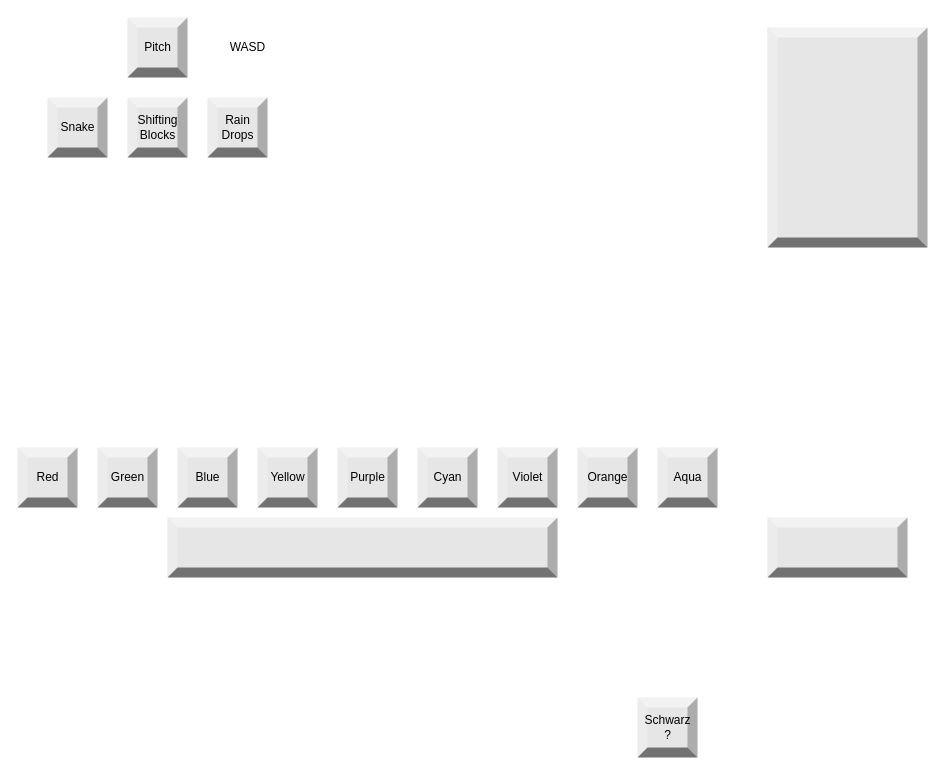
Some shapes in this 944 by 774 pixel diagram are drawn without their labels. Each missing label, with the centre of its shape:
Flash Fade (Enter): [847,137]
Short Flash: [362,547]
Weiß / Farbe switch (CTRL): [837,547]
